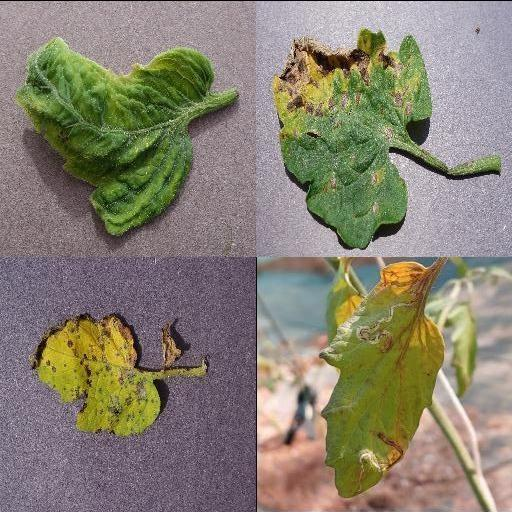Leaf Miner: (317, 257, 449, 499)
Septoria: (271, 27, 437, 249), (28, 312, 162, 436)
Yellow Leaf Curl Virus: (16, 34, 214, 238)
